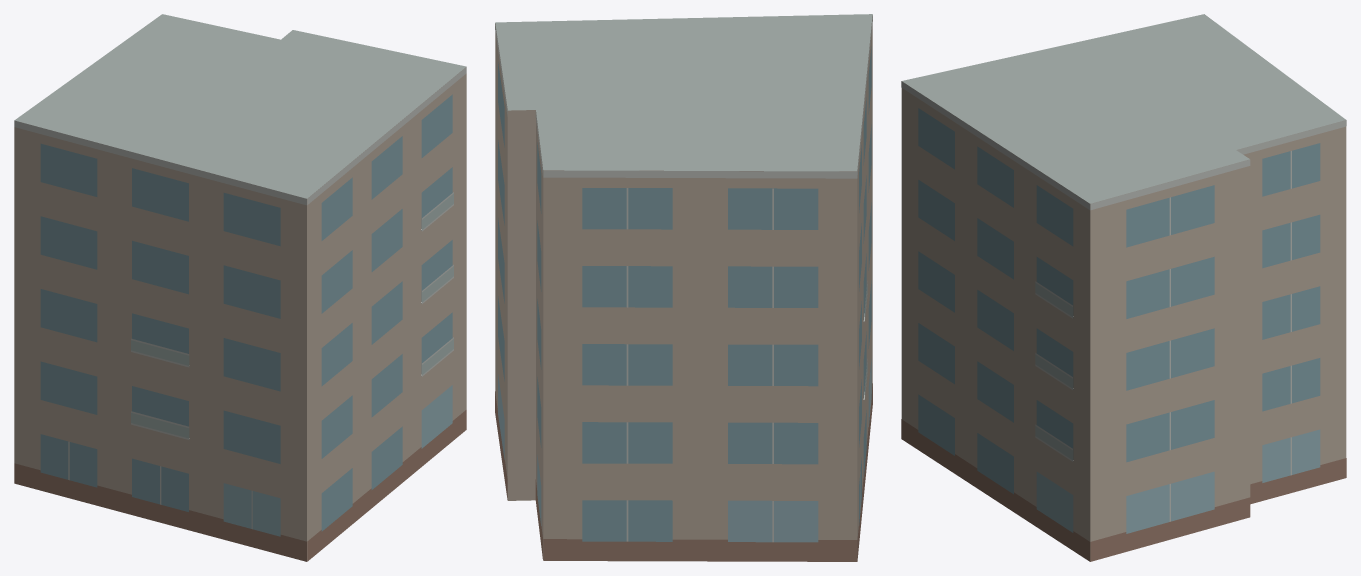
The model's file is survey-upis-32731871.glb.
3 renders of one model, left to right at view 1: azimuth 30°, elevation 25°; view 2: azimuth 150°, elevation 25°; view 3: azimuth 270°, elevation 25°, orthographic. The views are drawn at different scales.
Visible parts, largest first — view 1: survey-upis-32731871.tmp; view 2: survey-upis-32731871.tmp; view 3: survey-upis-32731871.tmp.
Boxes of the visible parts, box(x1,y1,x2,y2) form: survey-upis-32731871.tmp: box(14, 14, 466, 561); survey-upis-32731871.tmp: box(495, 14, 872, 561); survey-upis-32731871.tmp: box(901, 14, 1346, 561).
Size of the model in its own units: 15.13 by 13.3 by 14.99.
